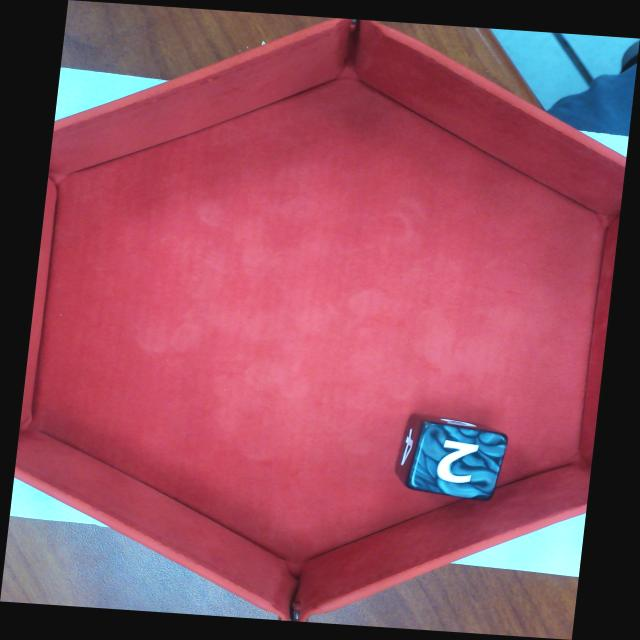dice: (403, 417, 513, 507)
